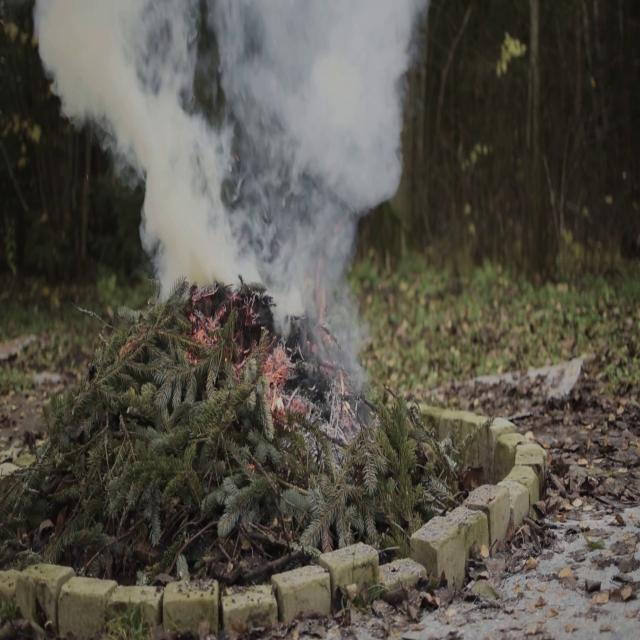Smoke: (35, 3, 418, 316)
